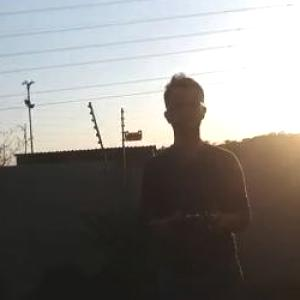follow: (134, 65, 260, 299)
